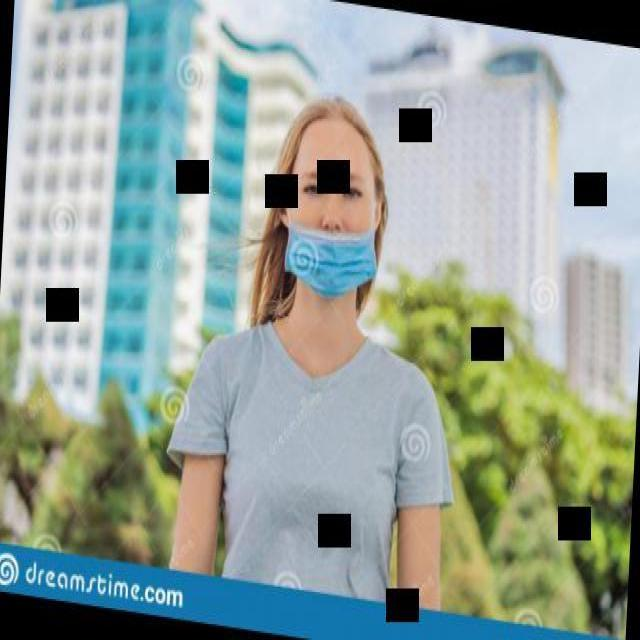hairnet: (290, 202, 381, 292)
